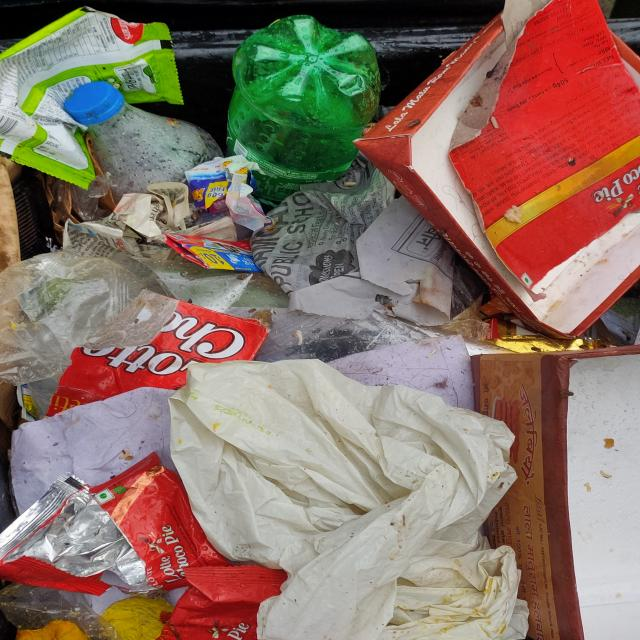B3: (356, 11, 640, 320), (168, 361, 516, 558), (2, 7, 178, 182), (260, 180, 454, 322), (224, 19, 384, 169), (58, 291, 270, 389), (3, 474, 209, 556), (68, 81, 223, 182), (73, 183, 191, 228), (162, 232, 267, 272)
